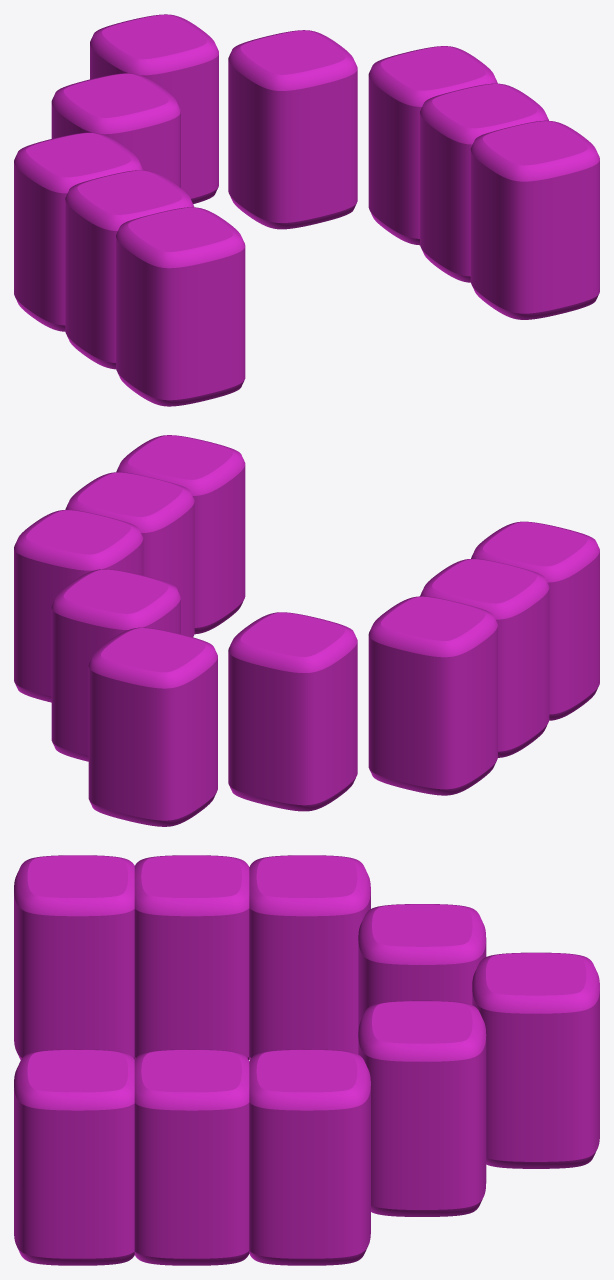
The model's file is Letter_v_Small.fbx.
The picture shows the model from 3 angles, top to bottom: view 1: azimuth 30°, elevation 25°; view 2: azimuth 150°, elevation 25°; view 3: azimuth 270°, elevation 25°; orthographic projection. The views are drawn at different scales.
Visible parts, largest first — view 1: Letter_v; view 2: Letter_v; view 3: Letter_v.
Part boxes in pixels (bbox=[...]): Letter_v: bbox=[14, 14, 599, 406]; Letter_v: bbox=[14, 435, 599, 826]; Letter_v: bbox=[14, 855, 599, 1265].
Size of the model in its own units: 0.4311 by 0.14 by 0.43.
